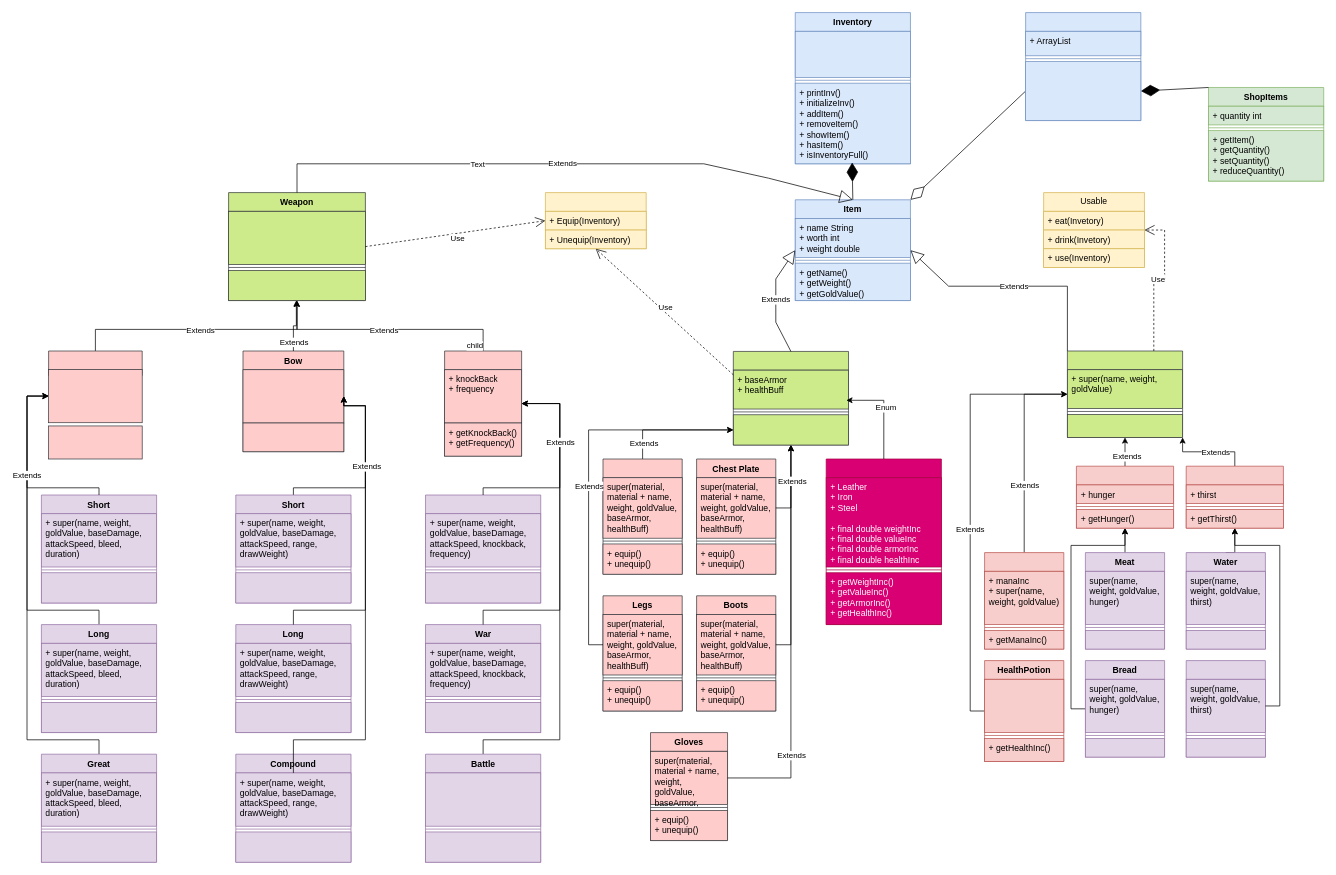
The diagram is 1336 pixels wide and 875 high, and some of its shapes have lost their labels. The box of each missing label's shape, as (x1, y1, x2, y2) in pixels:
+ abstract void Equip() + abstract void Unequip(): (733, 414, 849, 445)
+ Attack(): (228, 270, 365, 301)
+ baseDamage double + attackSpeed double + boolean isEquipped: (228, 211, 365, 265)
+ bleed + duration: (48, 369, 142, 423)
+ getBleed() + getDuration(): (48, 425, 142, 459)
+ getRange() + getDrawWeight(): (242, 422, 344, 452)
+ healthInc int super(name, weight, goldValue): (984, 679, 1064, 733)
+ listItems() + buyItem() + sellItem() + searchItem() + initializeItems(): (1025, 61, 1141, 121)
+ range + drawWeight: (242, 369, 344, 423)
+ size int + Item [][] inventory + String [][] slots: (795, 31, 910, 77)
Armour: (733, 351, 849, 445)
Axe: (444, 350, 522, 456)
Consumable: (1067, 350, 1183, 437)
Drink: (1185, 465, 1283, 528)
enum Material: (825, 458, 941, 625)
Equippable: (545, 192, 646, 249)
Food: (1076, 465, 1174, 528)
Hatchet: (425, 494, 541, 603)
Helmet: (602, 458, 682, 574)
ManaPotion: (984, 552, 1064, 649)
Milk: (1185, 660, 1265, 757)
Shop: (1025, 12, 1141, 121)
super(name, weight, goldValue, baseDamage, attackSpeed, knockback, frequency): (425, 772, 541, 826)
Sword: (48, 350, 142, 375)
